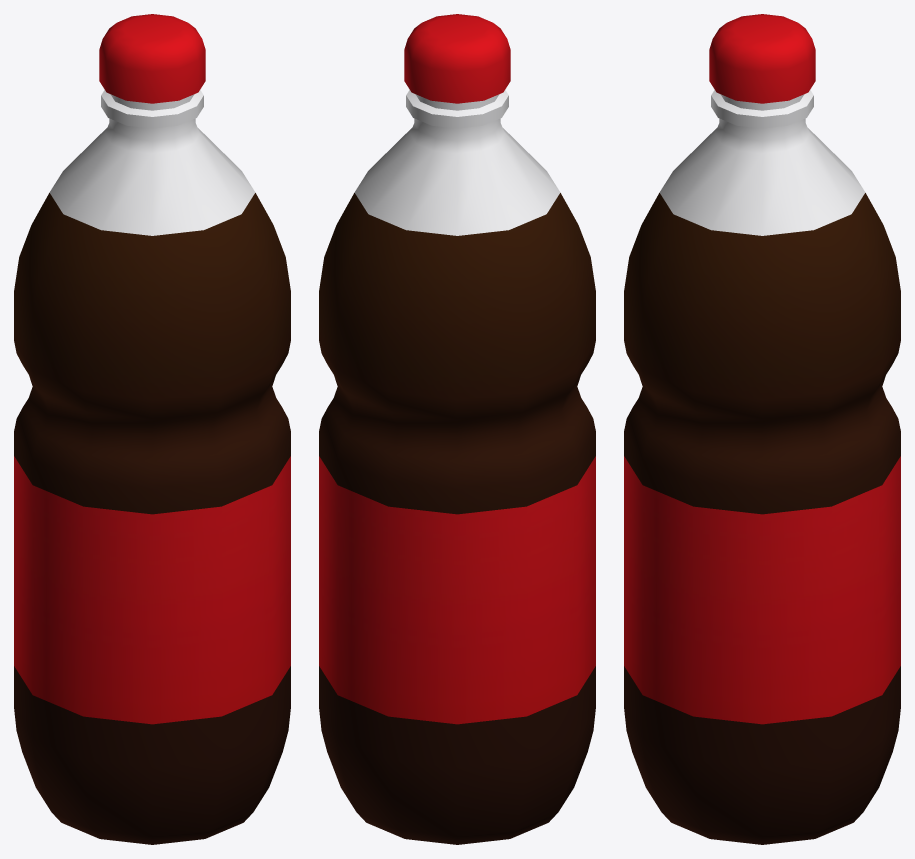
File: Soda_bottle_02.fbx
3 renders of one model, left to right at view 1: azimuth 30°, elevation 25°; view 2: azimuth 150°, elevation 25°; view 3: azimuth 270°, elevation 25°, orthographic.
Visible parts, largest first — view 1: Soda_bottle_02; view 2: Soda_bottle_02; view 3: Soda_bottle_02.
Part boxes in pixels (x1,y1,x2,y2): Soda_bottle_02: (14,14,290,844); Soda_bottle_02: (319,14,595,844); Soda_bottle_02: (624,14,900,844).
Bounding box in the file's own units: 107 × 107 × 333.
